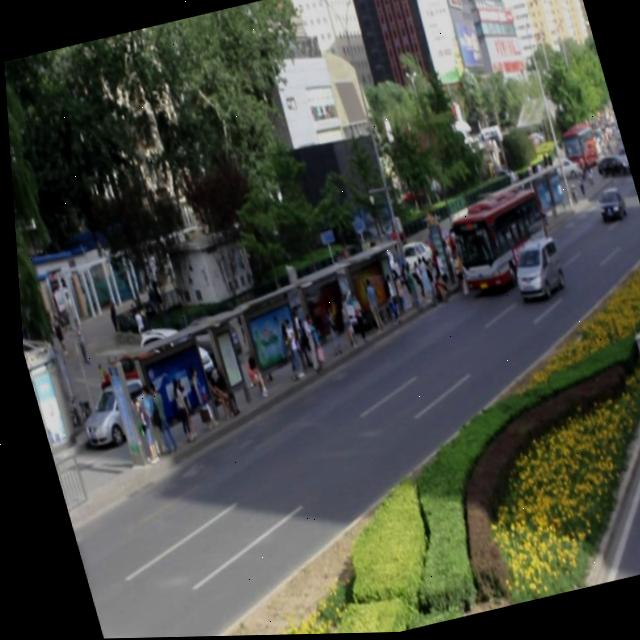car: (589, 185, 625, 225)
truck: (500, 233, 563, 305)
van: (442, 184, 554, 301)
